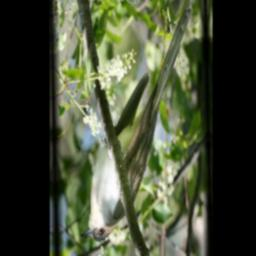Cuckoo: (74, 0, 200, 246)
